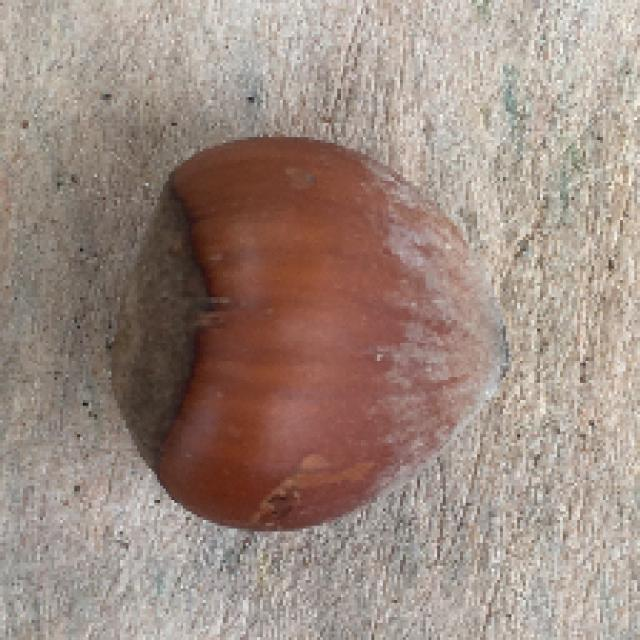QualityHazelnut: (112, 134, 512, 535)
